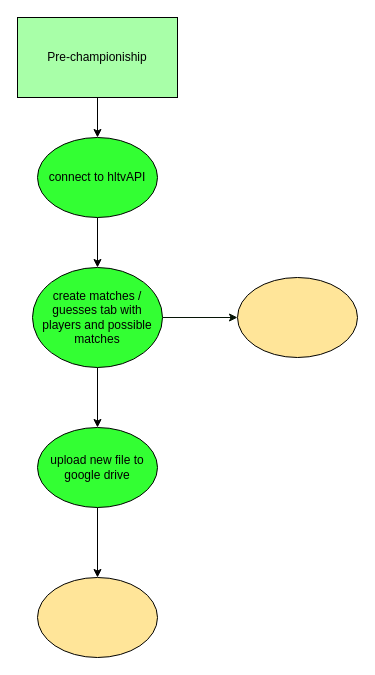
Image size: 375x675. Some labels were removed from this diagram. The shapes that lost their labels are listed below. From the top down, each one's centre as x and y in pixels, then its label:
At (297,317): "also create stats".
At (97,617): "save the ID of the saved spreadsheet to json".
